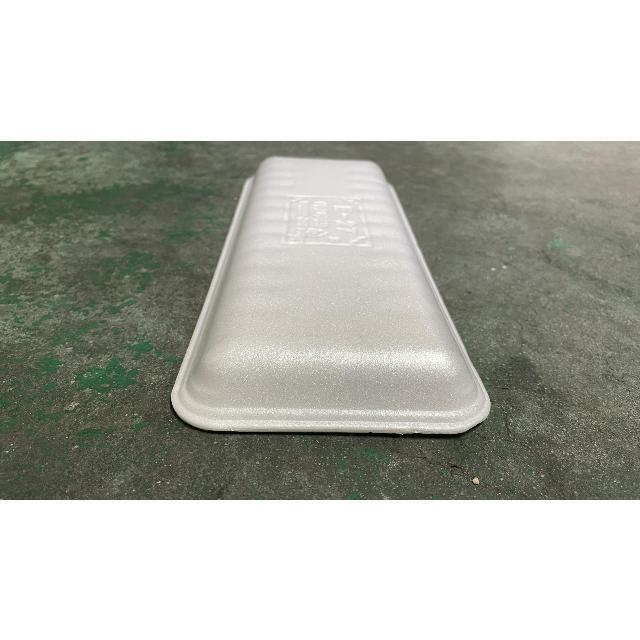Plastico descartable: (169, 156, 493, 439)
